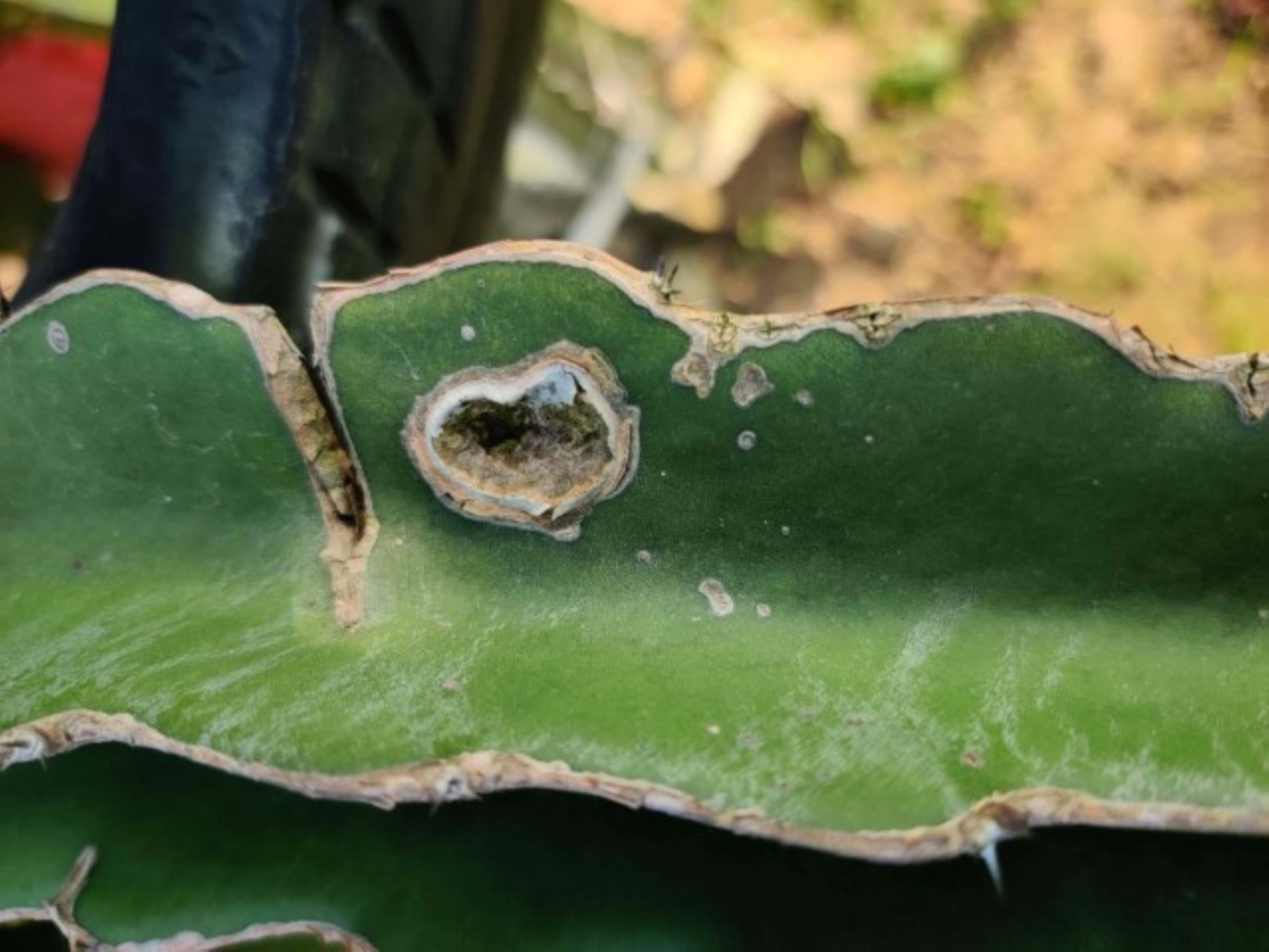stemcanker: (241, 218, 799, 679)
